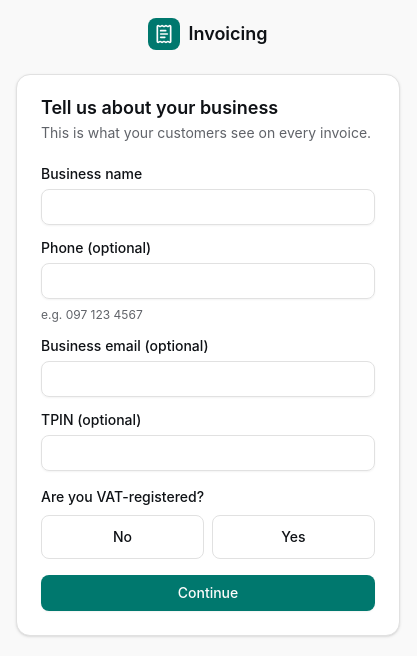
Test: OnboardingPage › shows server field errors next to the field
Type "Chanda Salon" into the field labelled "Business name".
click(208, 207); type("Chanda Salon")  # box left=41, top=189, right=375, bottom=225
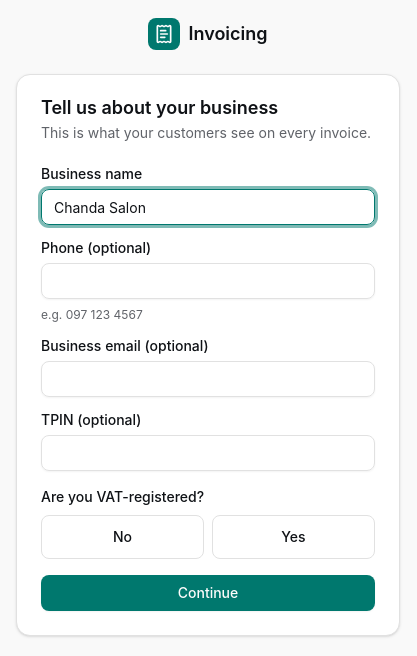
Type "12" into the field labelled "Phone (optional)".
click(208, 281); type("12")  # box left=41, top=263, right=375, bottom=299
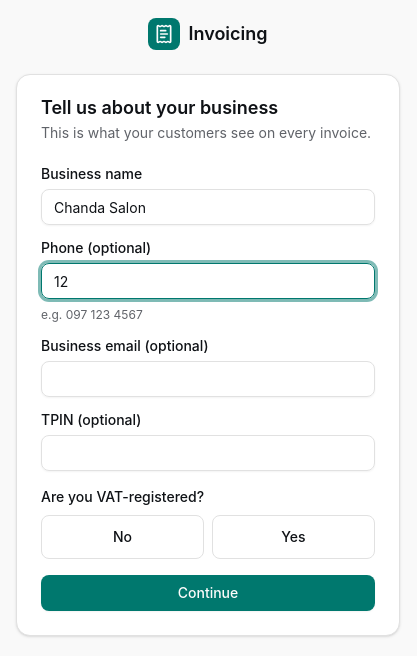
Click the radio button "No".
click(122, 537)  # box left=41, top=515, right=204, bottom=559
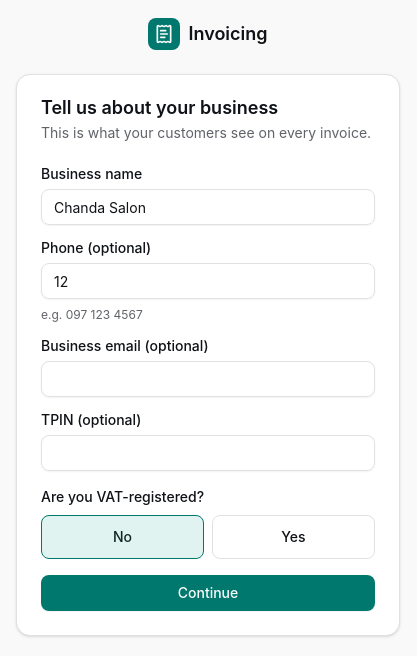
Click the button "Continue".
click(208, 593)  # box left=41, top=575, right=375, bottom=611
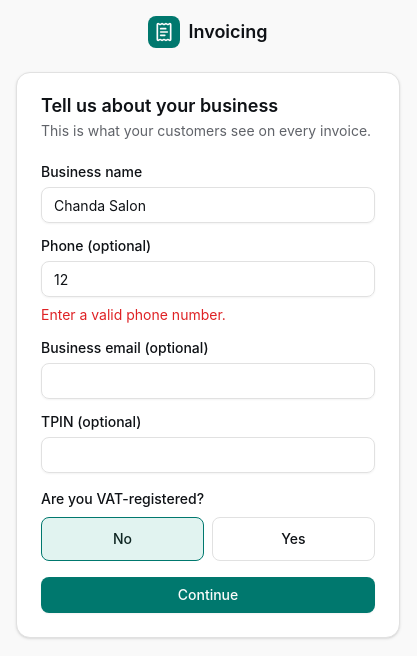
Check: the text "Enter a valid phone number." is shown, box left=41, top=306, right=226, bottom=323
